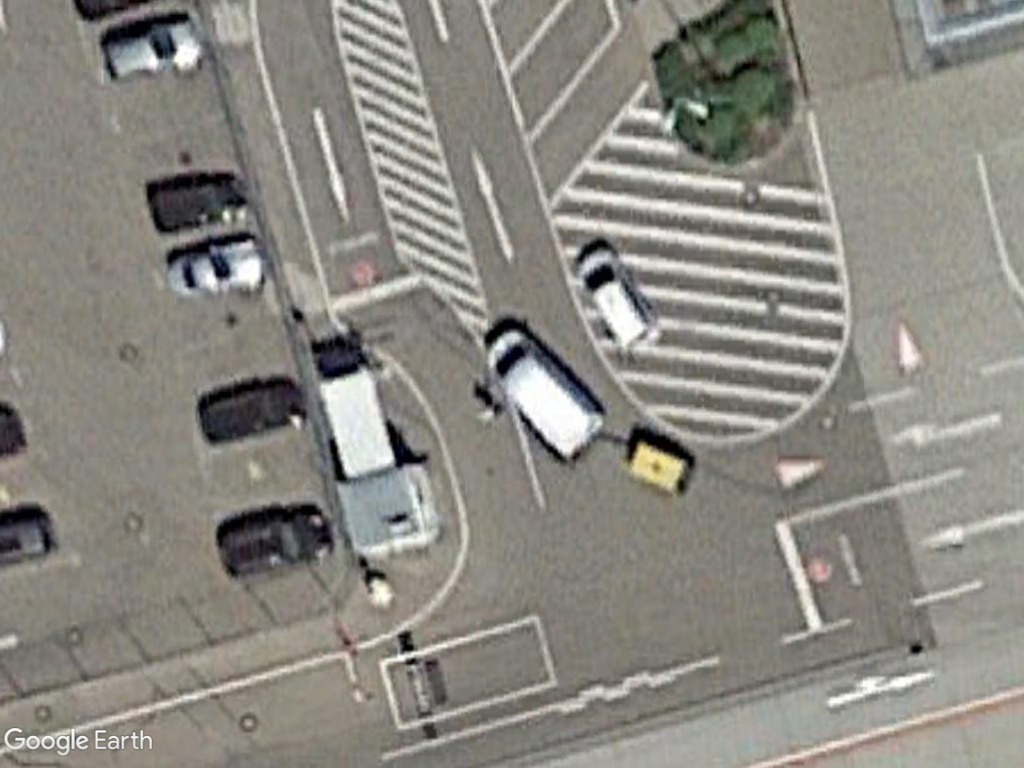car: (566, 242, 663, 355), (105, 20, 208, 85)
van: (486, 327, 606, 463)
